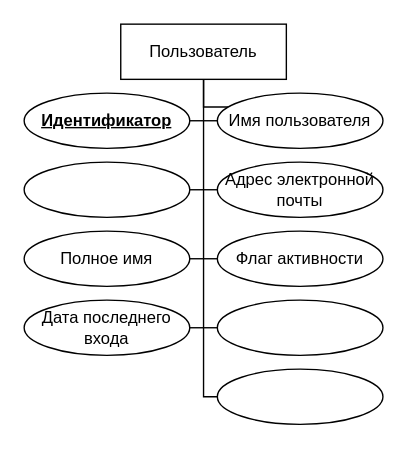
This 407x449 diagram has some shape labels left out. Here are the shapes that lost their labels. From the top down, the centre of each, then its label:
At point (106, 189): "Пароль".
At point (299, 327): "Количество сохраненных отчётов".
At point (299, 396): "Флаг Админ-пользователя".
